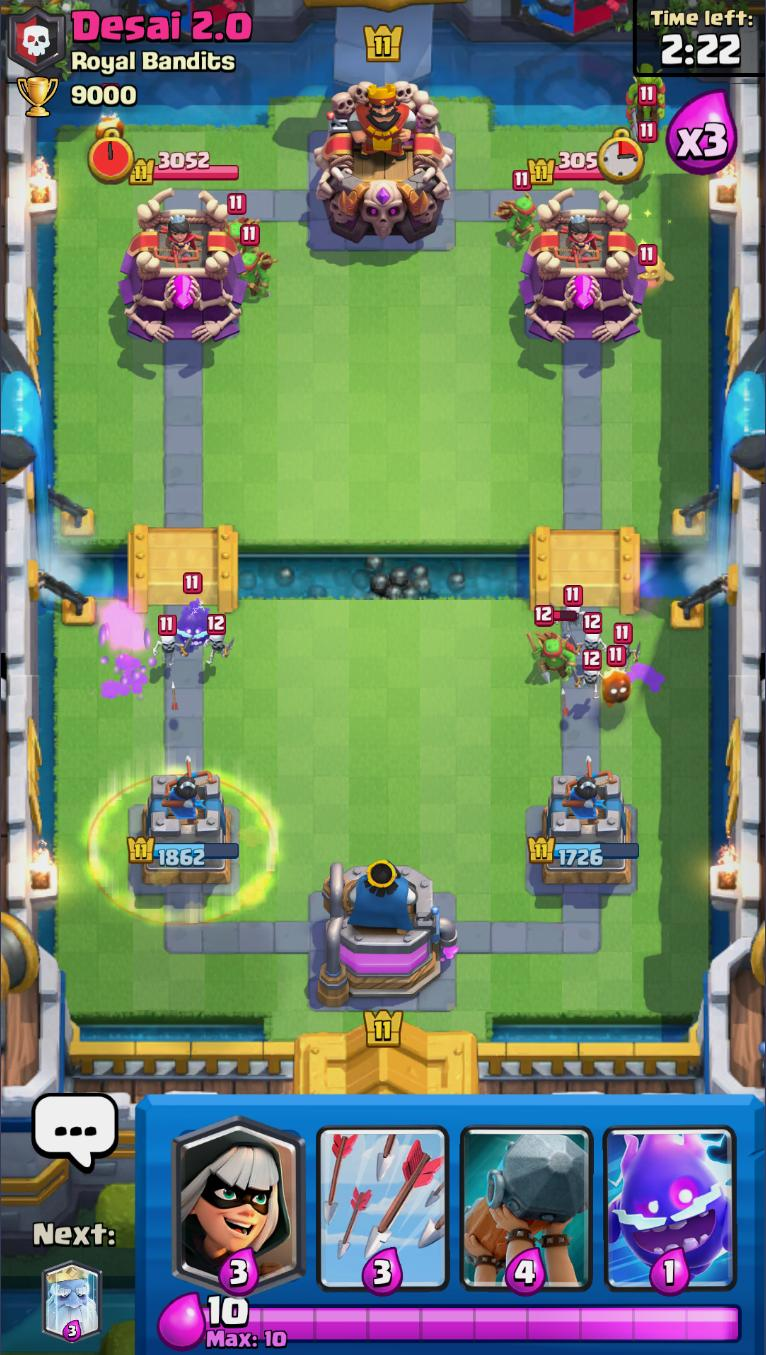ArrowDeck: (308, 1098, 456, 1293)
BanditDeck: (165, 1096, 311, 1290)
BattleRamDeck: (453, 1098, 599, 1297)
ElectroSpirit: (170, 573, 212, 662)
ElectroSpiritDeck: (597, 1098, 745, 1293)
Elixir: (203, 1289, 252, 1328)
EnemyTower: (522, 190, 650, 348), (120, 197, 238, 347)
FireSpirit: (602, 645, 630, 708), (92, 112, 127, 157)
Goblin: (627, 65, 667, 127)
HealSpirit: (633, 242, 677, 292)
KingTower: (313, 73, 450, 257)
MyKingTower: (315, 860, 462, 1010)
MyPrincessTower: (122, 773, 240, 892), (530, 767, 642, 887)
MyPrincessTowerHP: (128, 837, 238, 867), (532, 838, 642, 867)
PrincessTower: (550, 213, 607, 267), (153, 210, 203, 265)
RoyaleGhostNext: (42, 1257, 103, 1343)
Skeleton: (150, 613, 192, 667), (569, 612, 610, 660), (573, 648, 608, 700), (553, 587, 585, 633), (207, 615, 238, 662), (611, 624, 642, 662)
SpearGoblin: (528, 608, 578, 680), (235, 227, 278, 305), (497, 170, 535, 248), (223, 191, 260, 245)
TowerPrincessHP: (128, 145, 242, 185), (527, 150, 642, 188)
